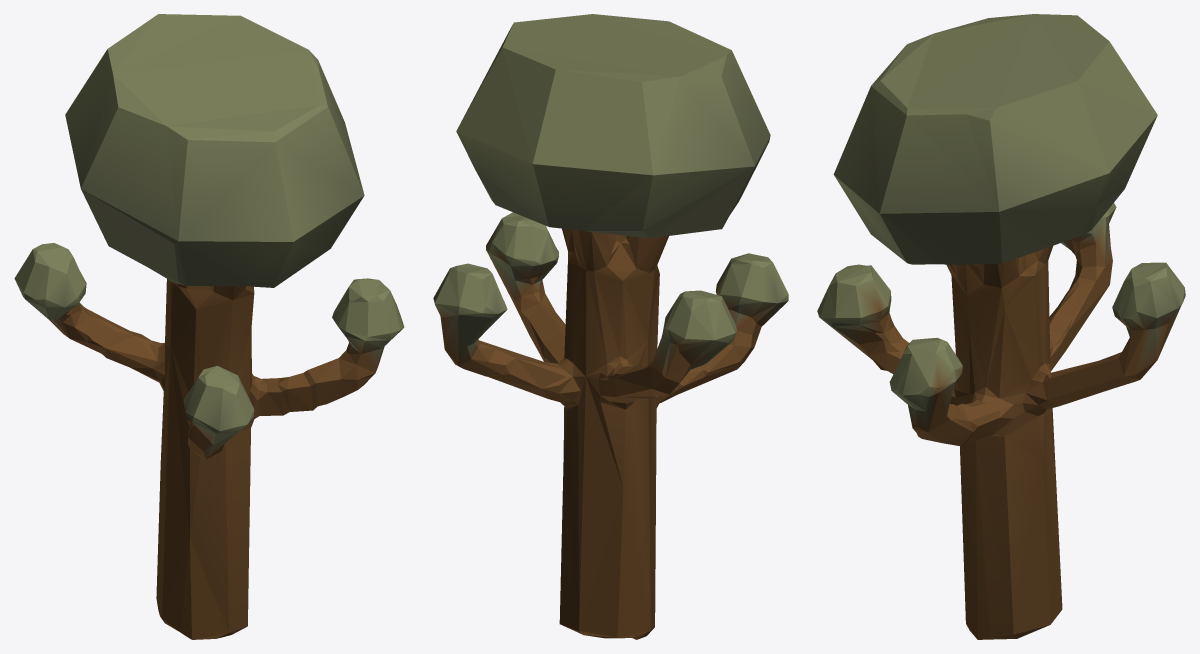
The model's file is Trees(2).glb.
3 views of the same model, side by side, from view 1: azimuth 30°, elevation 25°; view 2: azimuth 150°, elevation 25°; view 3: azimuth 270°, elevation 25° (orthographic). The views are drawn at different scales.
Visible parts, largest first — view 1: Root; view 2: Root; view 3: Root.
Part boxes in pixels (x1,y1,x2,y2): Root: [14, 14, 404, 639]; Root: [433, 14, 788, 639]; Root: [817, 14, 1185, 639].
Size of the model in its own units: 1.84 by 3.32 by 1.89.
